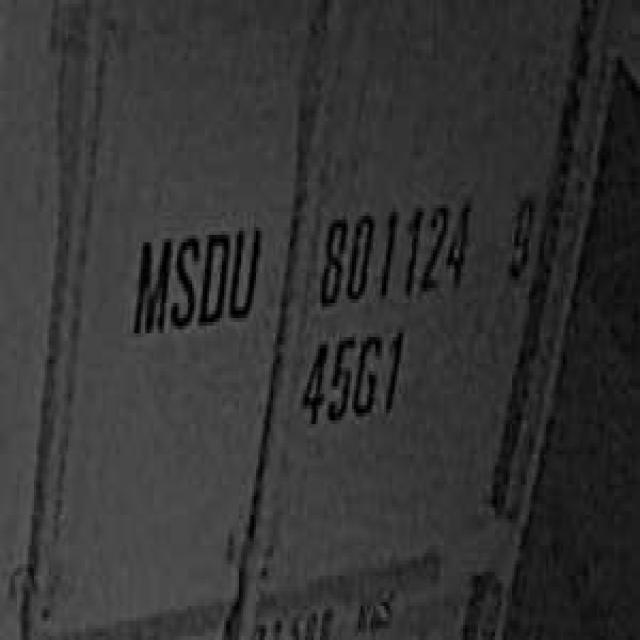dv: (503, 174, 540, 280)
owner: (126, 208, 262, 341)
serial: (314, 182, 476, 310)
size: (292, 318, 403, 432)
